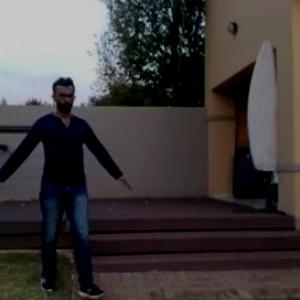land: (0, 76, 135, 299)
